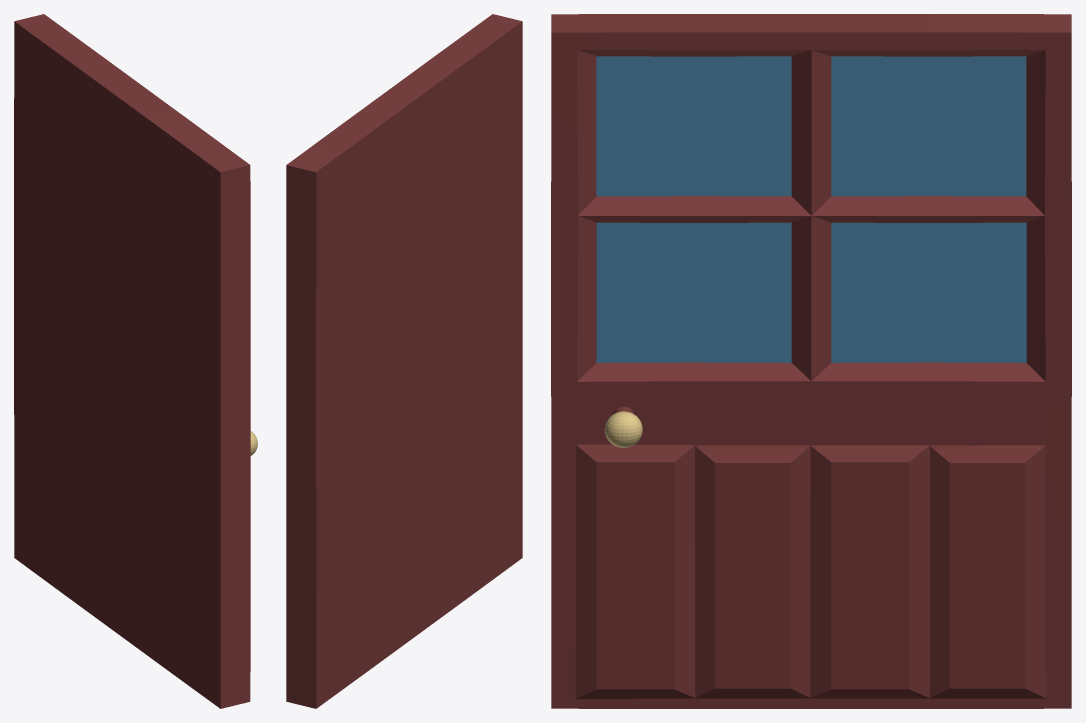
File: cabin_door.fbx
3 renders of one model, left to right at view 1: azimuth 30°, elevation 25°; view 2: azimuth 150°, elevation 25°; view 3: azimuth 270°, elevation 25°, orthographic. The views are drawn at different scales.
Visible parts, largest first — view 1: glassdoor.001; view 2: glassdoor.001; view 3: glassdoor.001.
Boxes of the visible parts, box(x1,y1,x2,y2) form: glassdoor.001: box(14, 14, 257, 708); glassdoor.001: box(286, 14, 522, 708); glassdoor.001: box(551, 14, 1071, 708).
Size of the model in its own units: 108 by 870 by 607.
